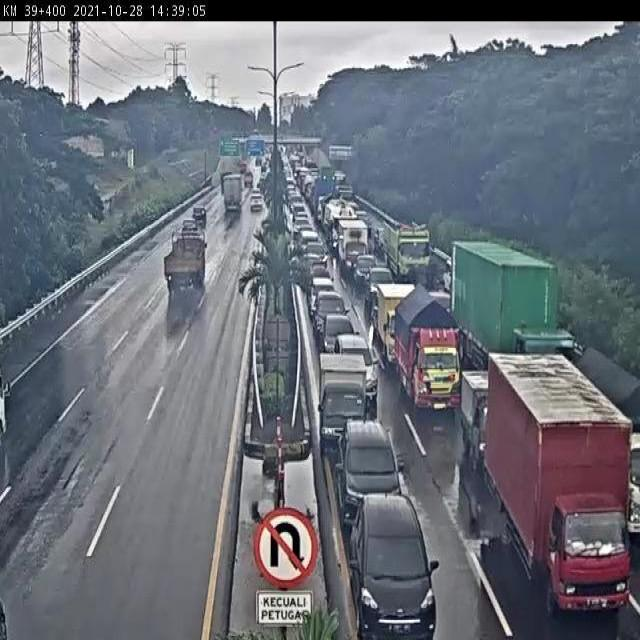big truck: (480, 345, 640, 627), (448, 226, 583, 402), (569, 335, 640, 536), (379, 220, 433, 277), (365, 264, 400, 309), (350, 248, 385, 291), (217, 172, 248, 213)
car: (348, 488, 441, 640), (337, 415, 405, 529), (335, 324, 380, 399), (323, 308, 357, 363), (310, 292, 350, 336), (438, 248, 463, 291), (310, 271, 339, 304), (303, 256, 334, 281), (175, 214, 196, 250), (184, 199, 206, 229), (247, 188, 266, 215)
small truck: (387, 285, 464, 415), (315, 344, 371, 453), (371, 273, 430, 355), (159, 231, 209, 300)
